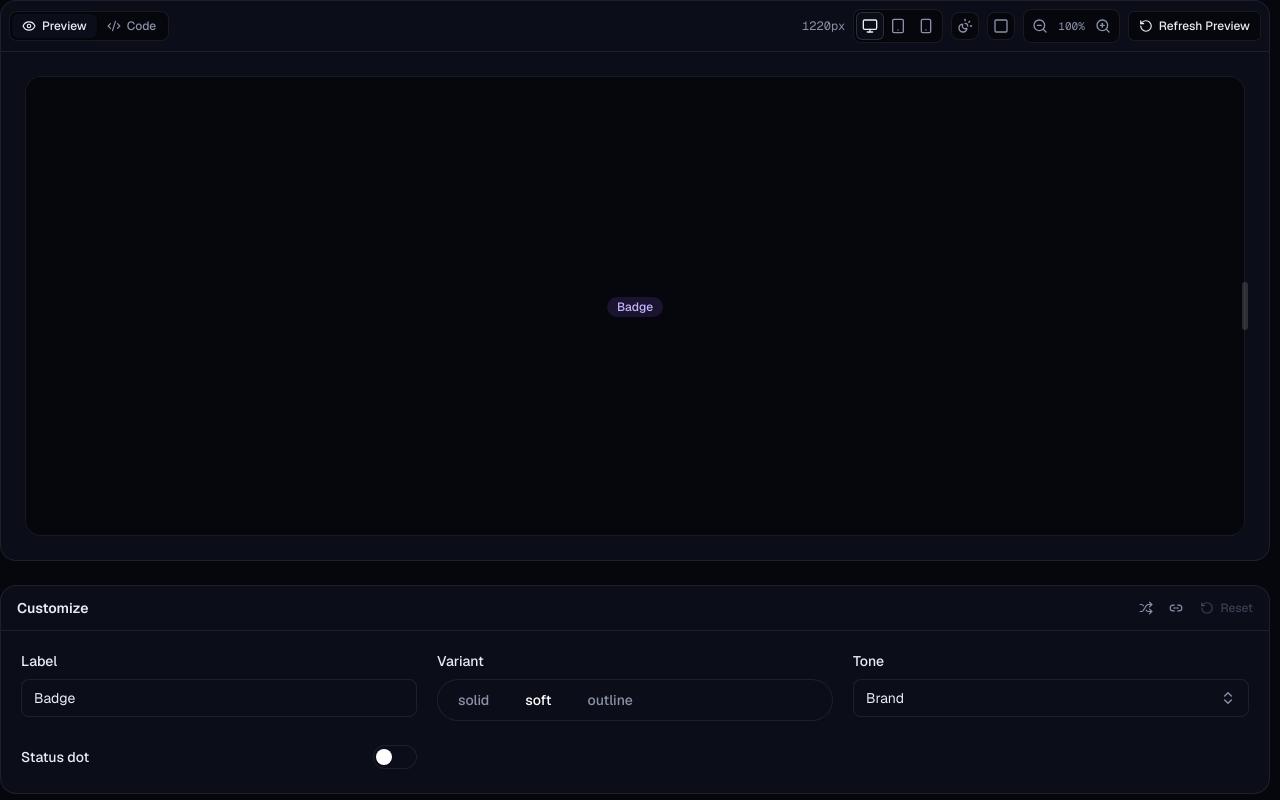
Test: ComponentPlayground — stage tools › cycles the preview theme and backdrop
Click the button named "preview theme".
click(965, 26)  # box top-left (951, 12), bottom-right (979, 40)
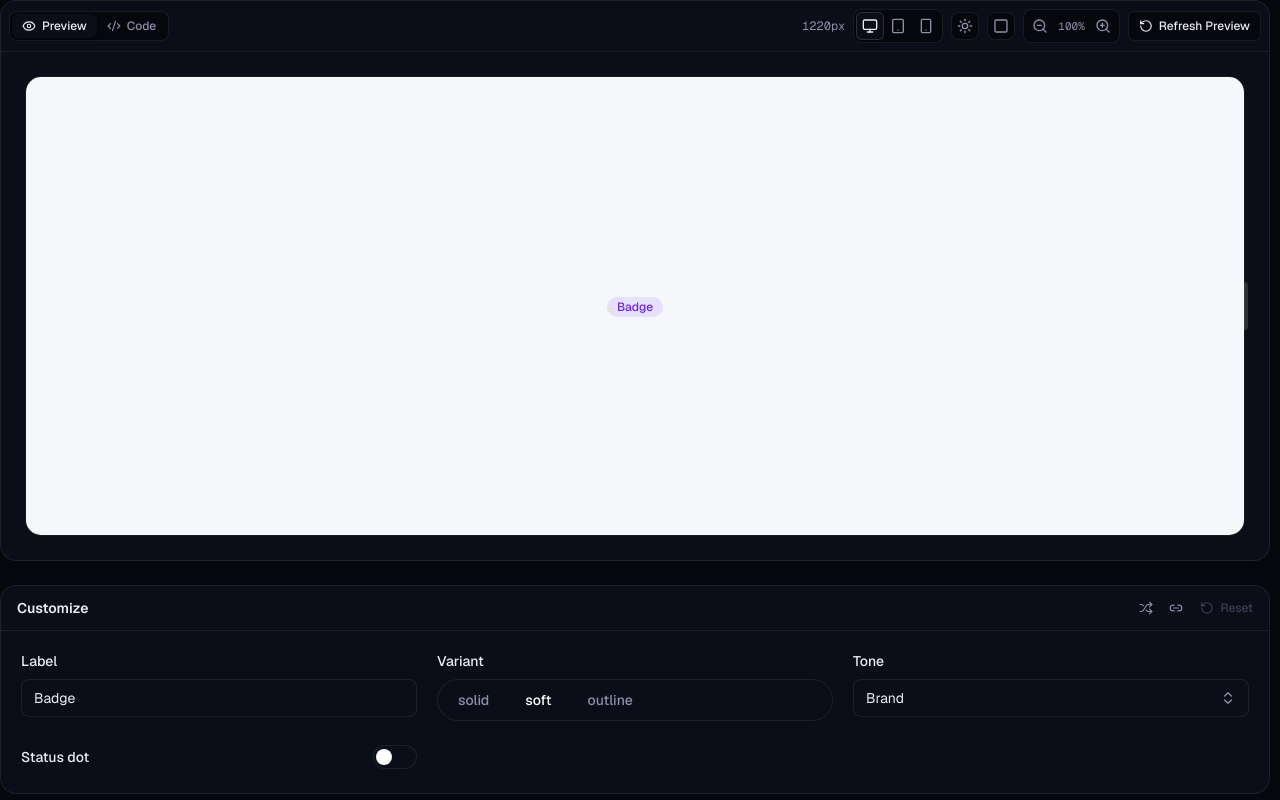
Expected: the button named "Preview theme: Light" is shown, top-left (951, 12), bottom-right (979, 40)
Click the button named "preview backdrop".
click(1001, 26)  # box top-left (987, 12), bottom-right (1015, 40)
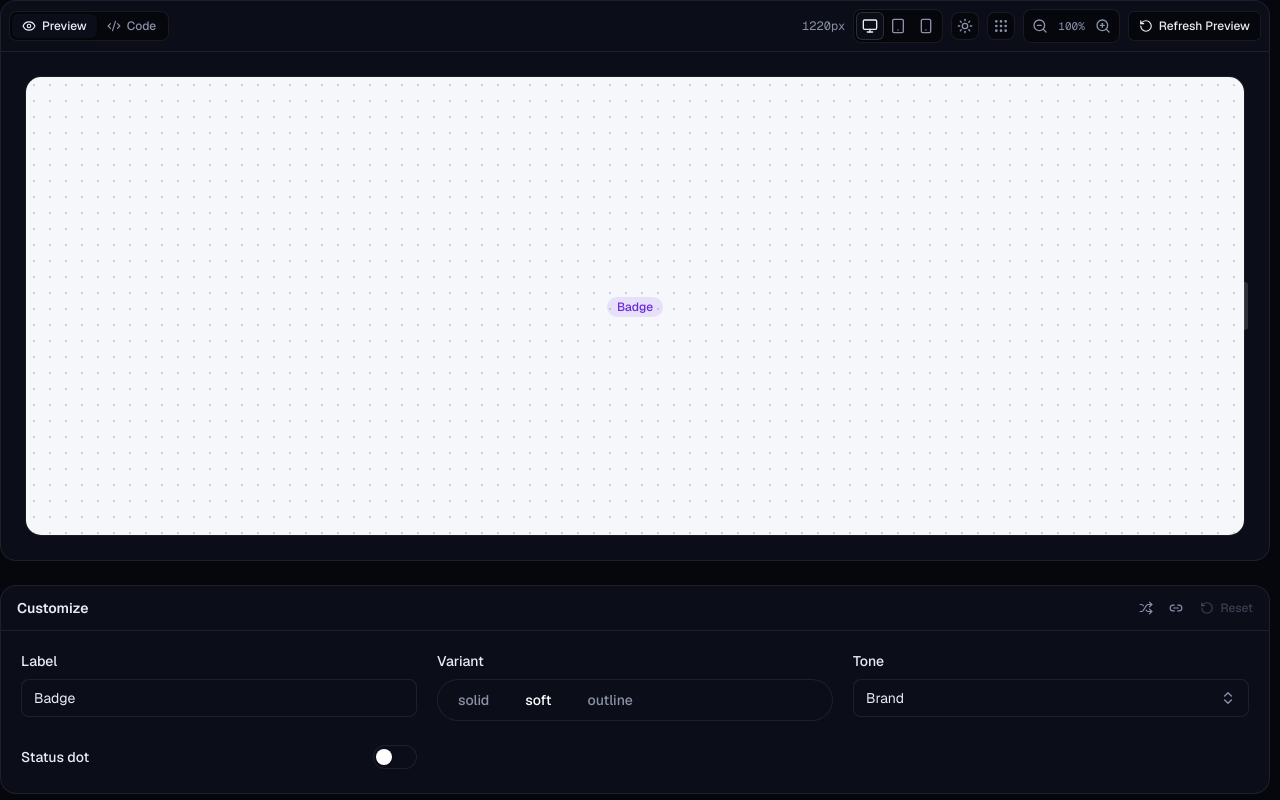
Expected: the button named "Preview backdrop: Dots" is shown, top-left (987, 12), bottom-right (1015, 40)
